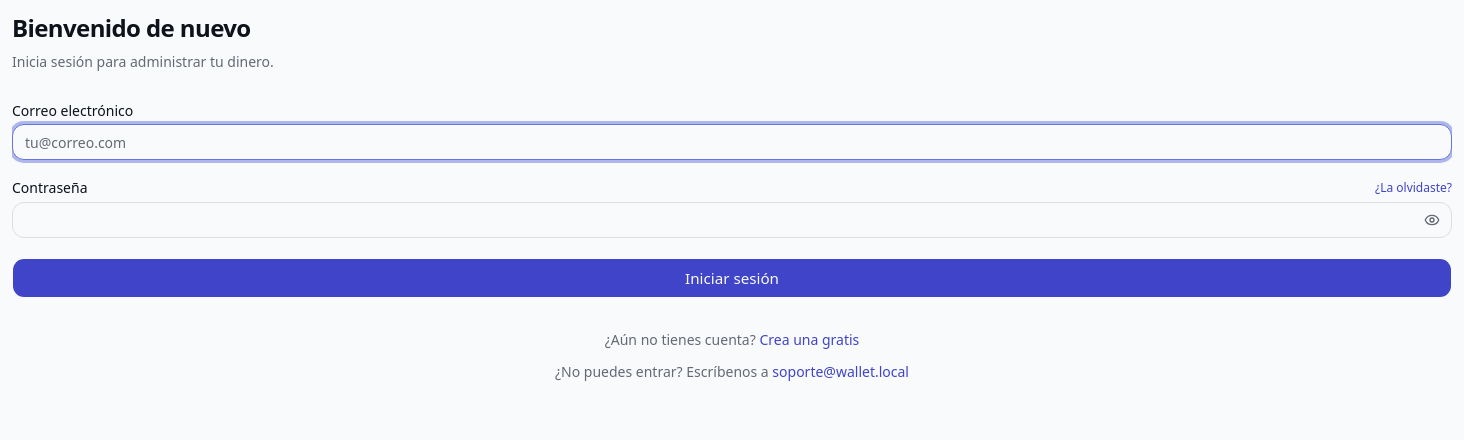
Test: LoginPage › blames the code, not the password, when the second step fails
Type "ana@example.com" into the field labelled "Correo electrónico" at (732, 142), box 12,124 -> 1452,160
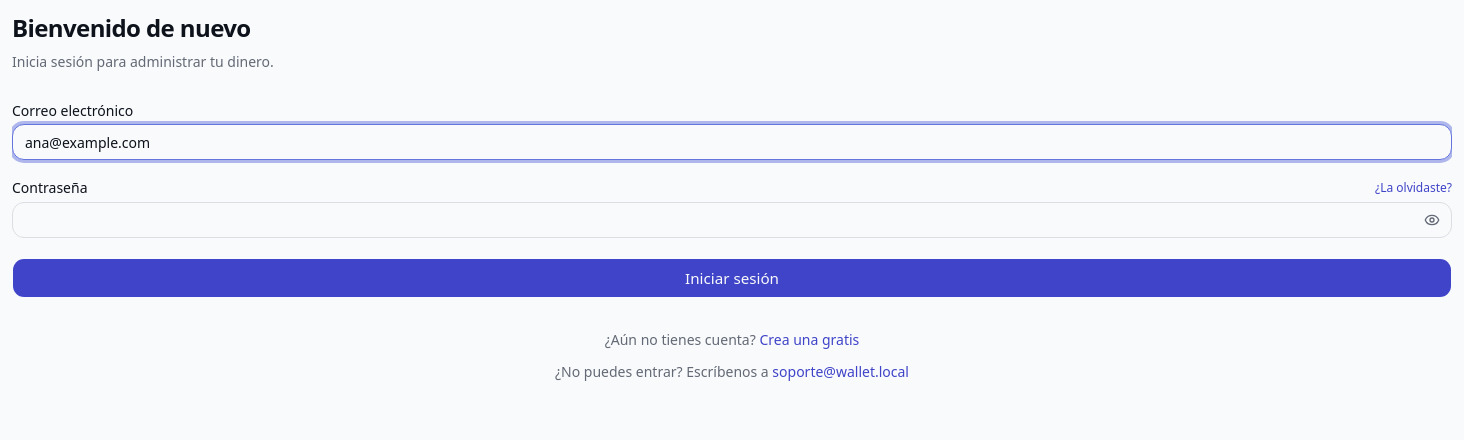
Type "Secreta#2026" into the password field labelled "Contraseña" at (732, 220), box 12,202 -> 1452,238
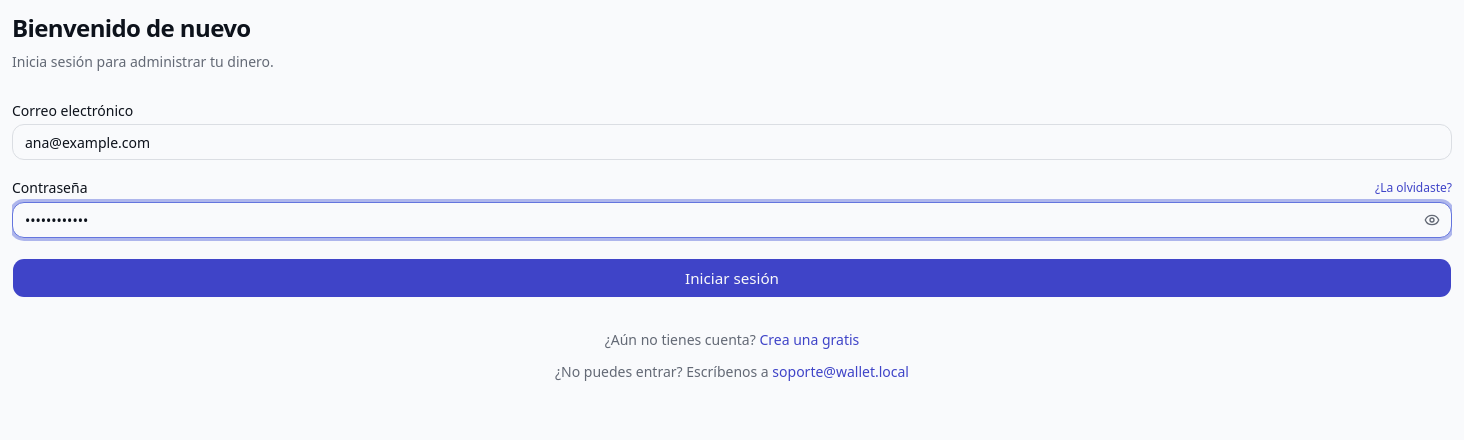
Click the button "Iniciar sesión" at (732, 278), box 12,258 -> 1452,298
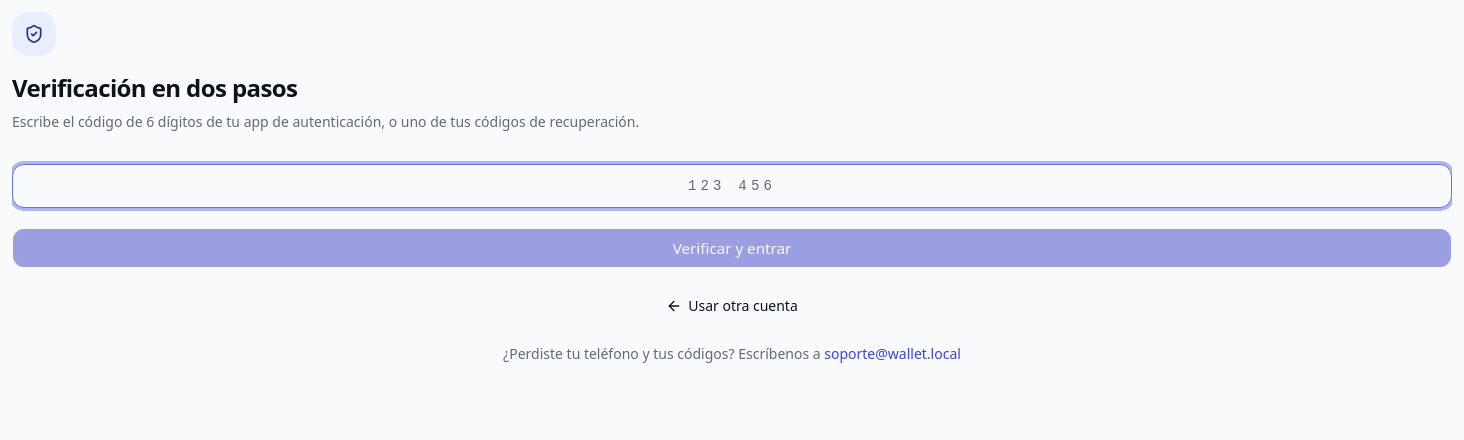
Type "000000" into the field named "Código de verificación" at (732, 186), box 12,164 -> 1452,208
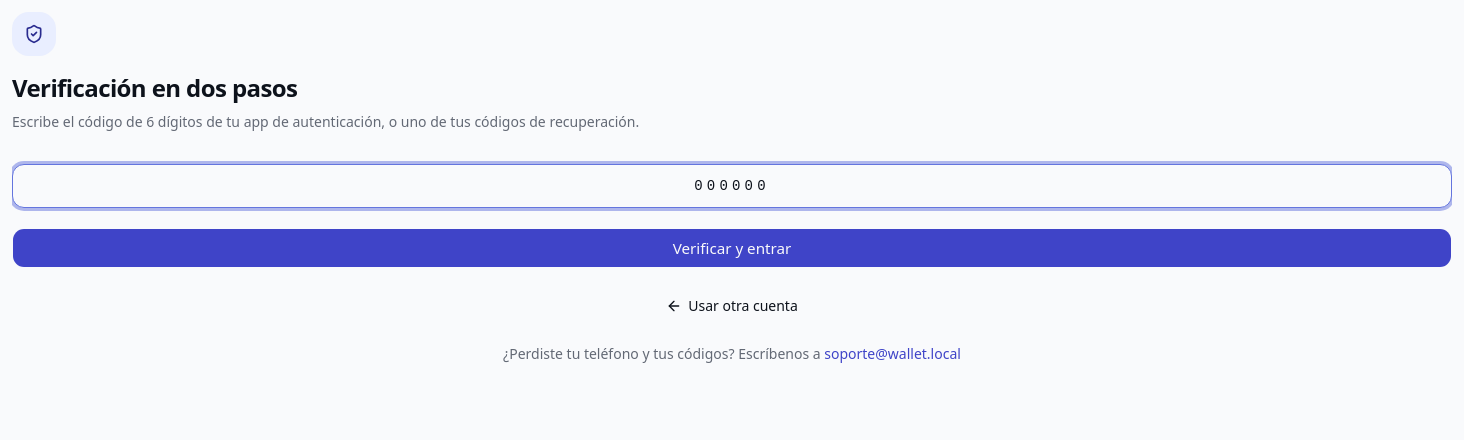
Click the button "Verificar y entrar" at (732, 248), box 12,228 -> 1452,268
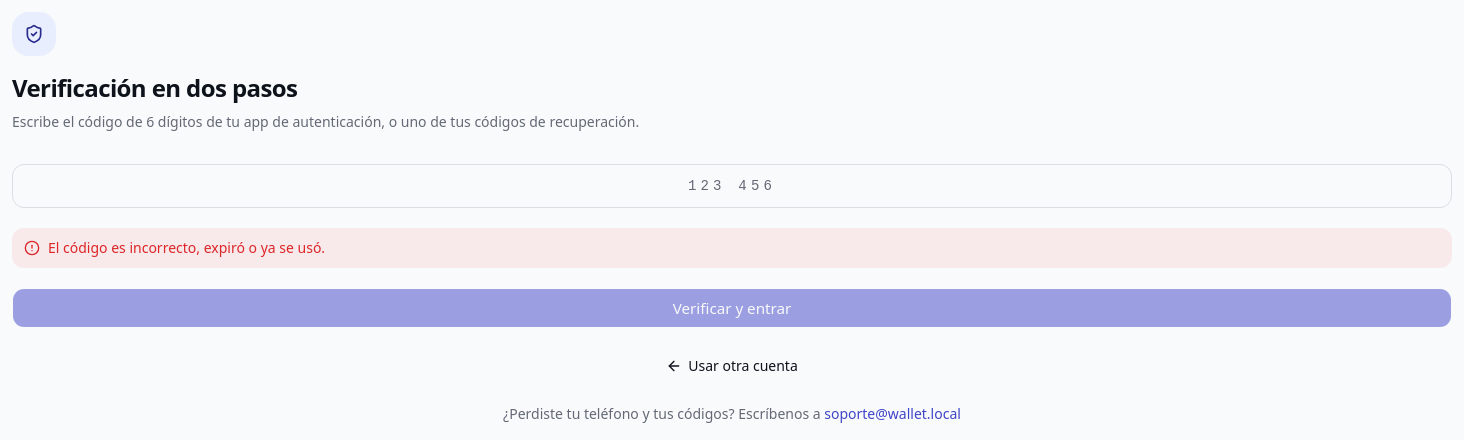
Check: the text "El código es incorrecto, expiró o ya se usó." is shown, box 48,238 -> 325,258
